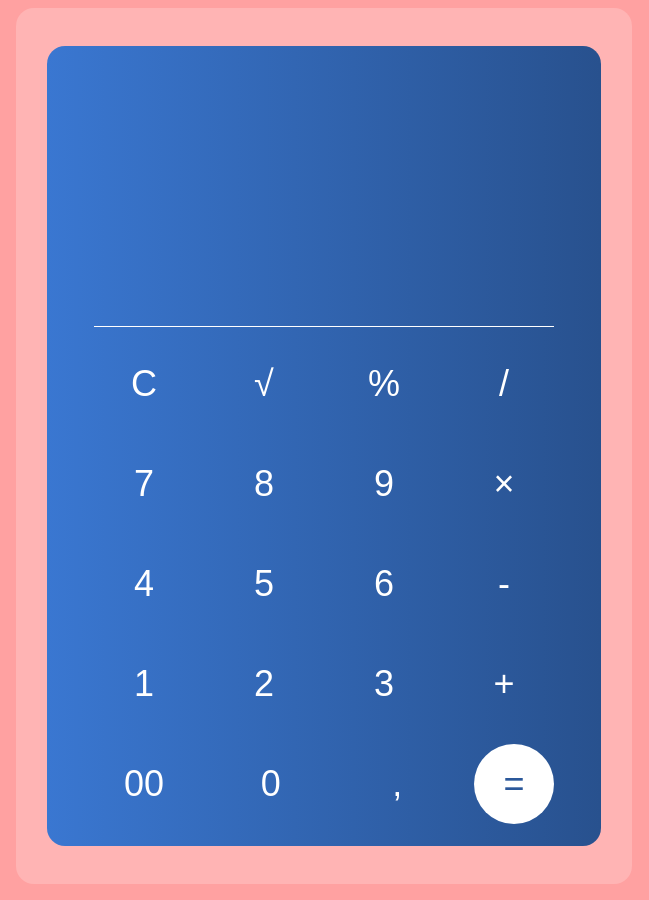
it: Calculator Component › updates input field on button click
The image size is (649, 900).
Click the button "7". click: [144, 484]
box: [94, 444, 194, 524]
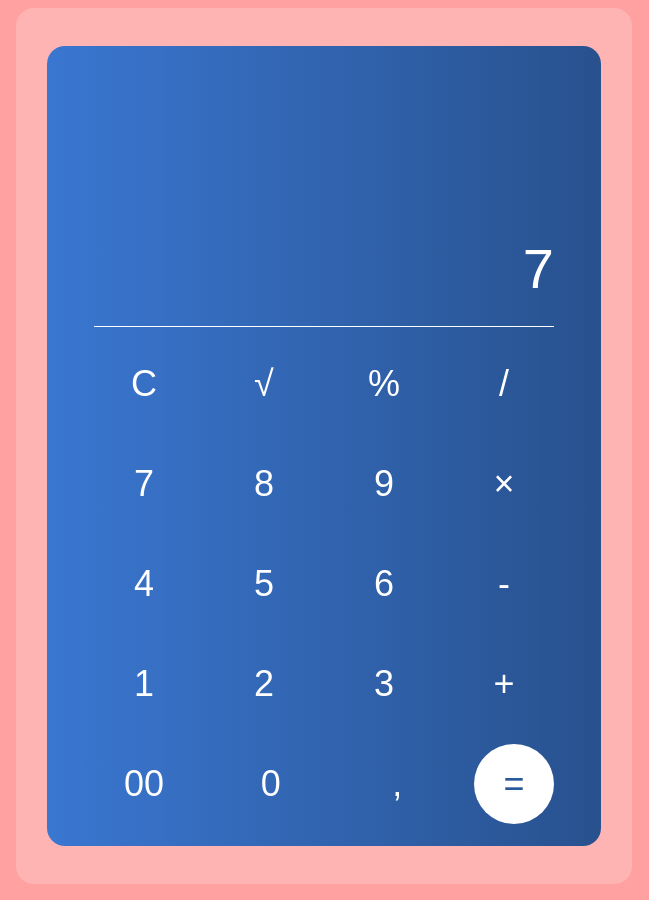
Click the button "+". click: [504, 684]
box: [454, 644, 554, 724]
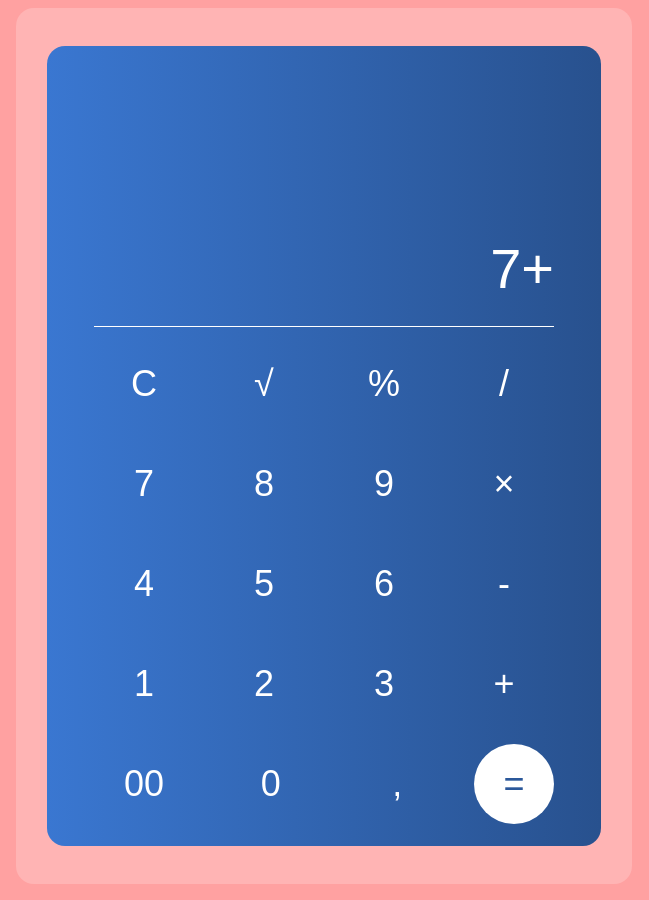
Click the button "3". click: [384, 684]
box: [334, 644, 434, 724]
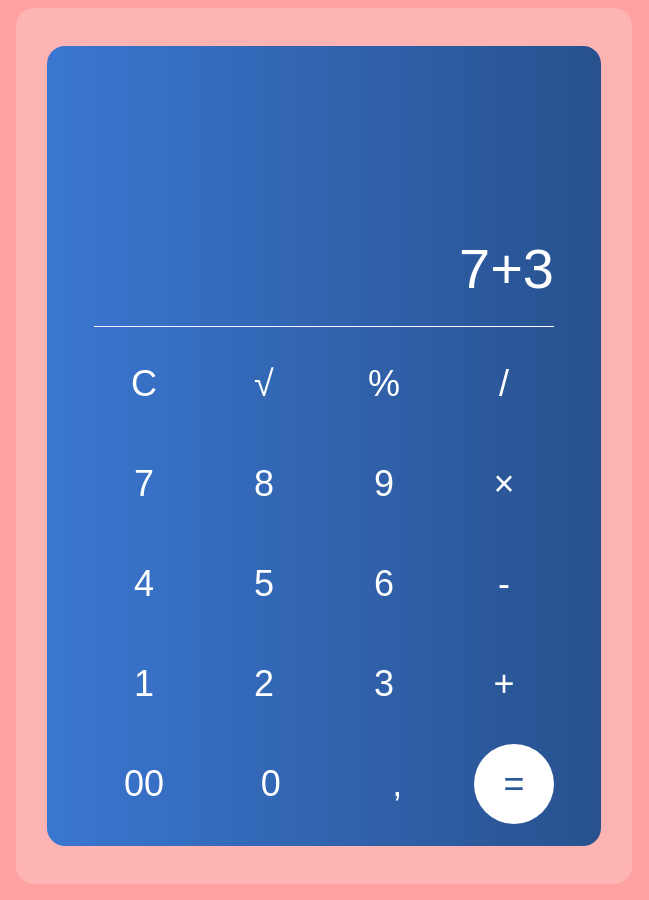
Click the button "=". click: [514, 784]
box: [474, 744, 554, 824]
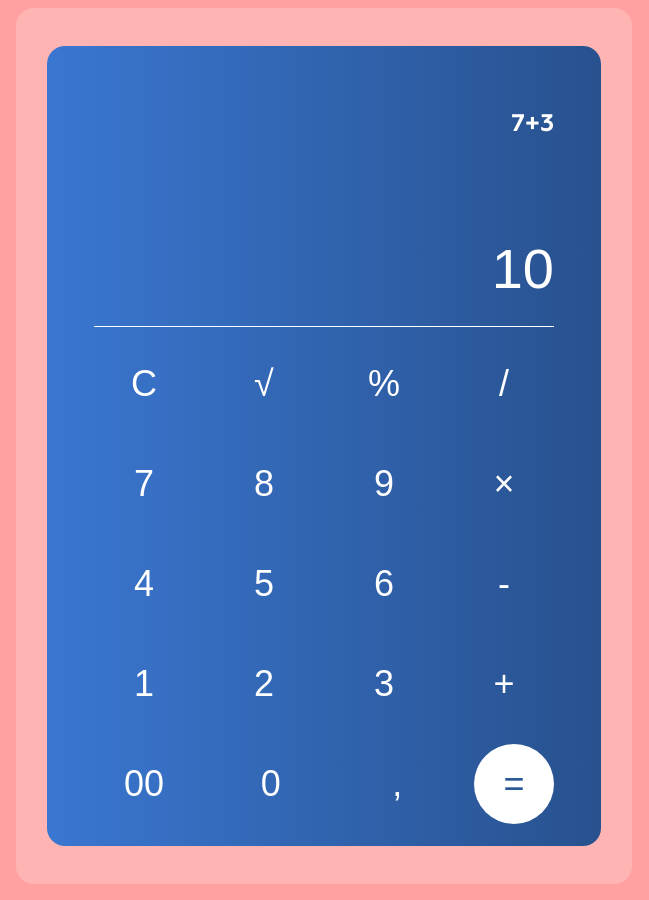
expect the field holds "10": met, box [92, 230, 556, 308]
